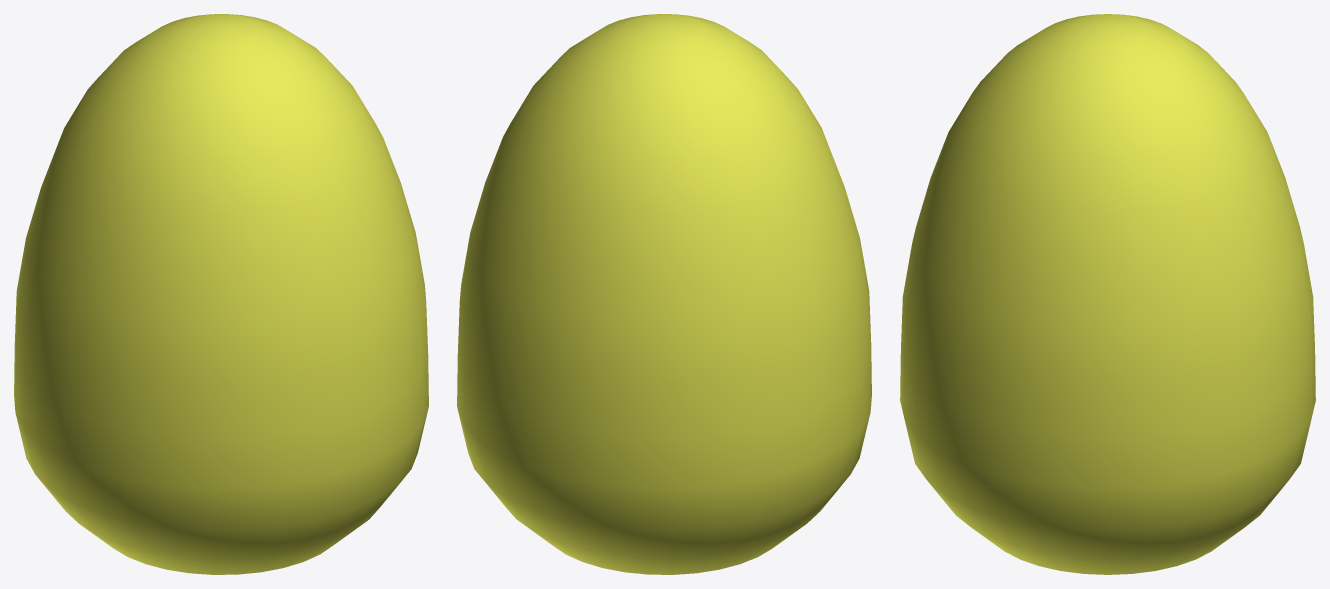
File: Supermarket_run_egg.fbx
3 views of the same model, side by side, from view 1: azimuth 30°, elevation 25°; view 2: azimuth 150°, elevation 25°; view 3: azimuth 270°, elevation 25° (orthographic).
Parts seen in each view (by area): view 1: Supermarket_run_egg; view 2: Supermarket_run_egg; view 3: Supermarket_run_egg.
Boxes of the visible parts, x1,y1,x2,y2 form: Supermarket_run_egg: (14,14,428,574); Supermarket_run_egg: (457,14,871,574); Supermarket_run_egg: (900,14,1315,574).
Bounding box in the file's own units: 212 × 300 × 212.
